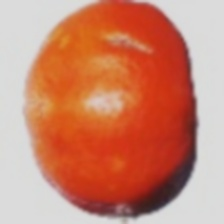tangerine: (39, 19, 224, 196)
